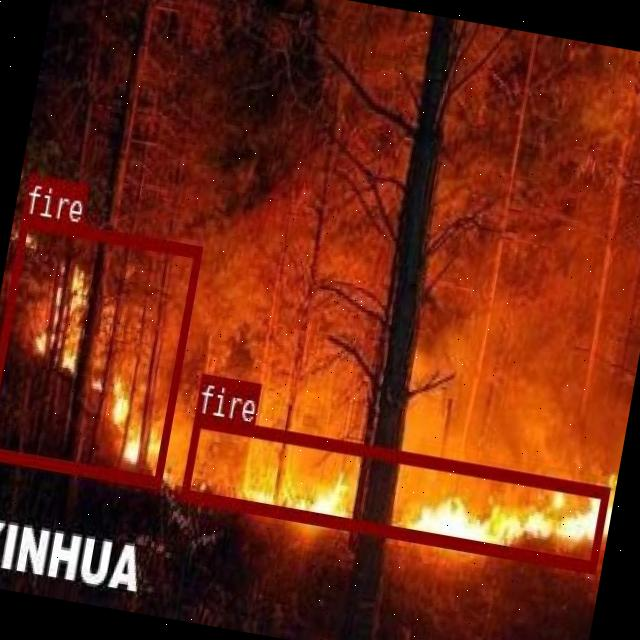fire: (178, 414, 608, 572), (0, 213, 200, 486)
